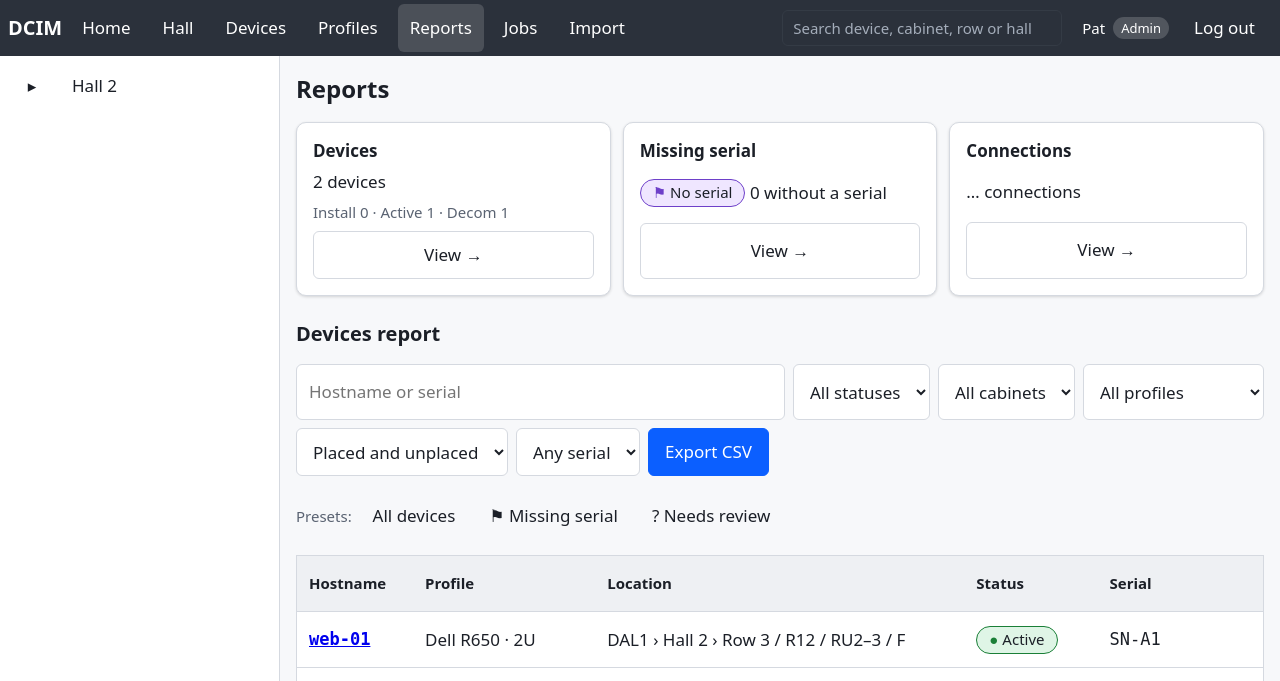
Test: Reports › shows cards, Connections card, and the missing-serial preset
The width and height of the screenshot is (1280, 681).
Expected: the link "web-01" is shown, [309,629,370,649]
Expected: the dropdown named "Profile" is shown, [1083,364,1264,420]
What coordinates should you click on to do the following:
click the button "⚑ Missing serial"
I would click on:
 (554, 516)
Its box is [472,492,635,540].
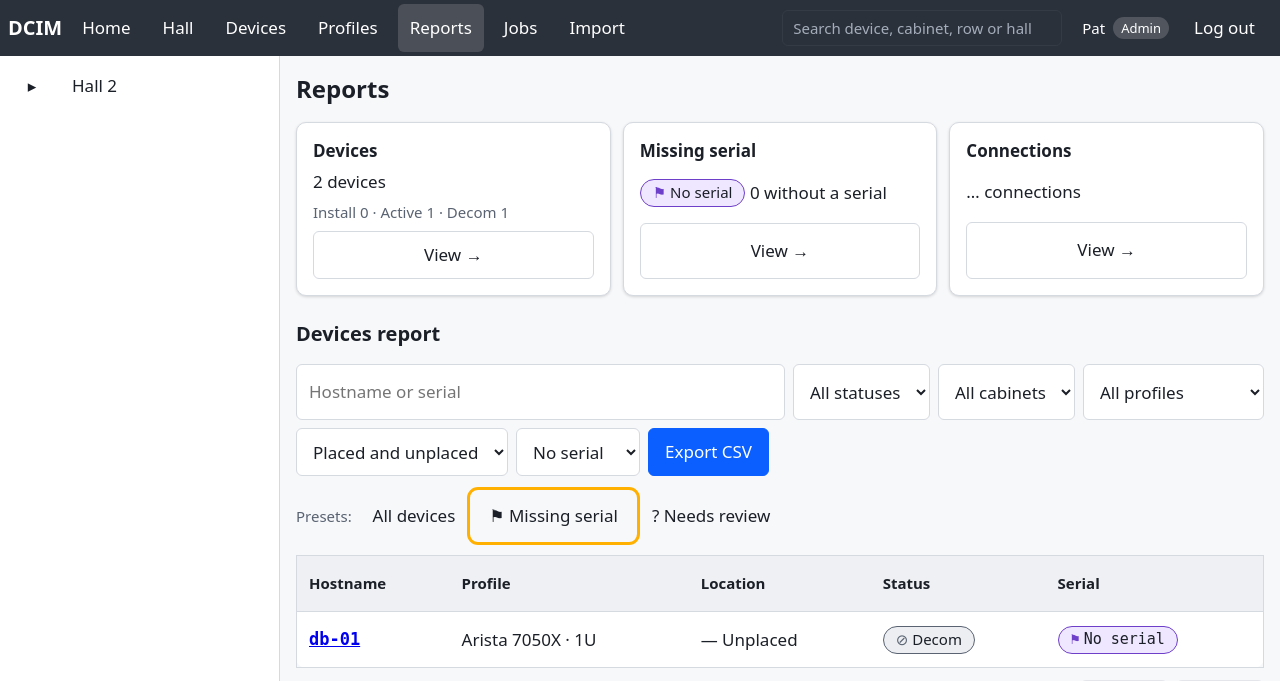
Expected: the link "db-01" is shown, [309,629,360,649]
Now the link "web-01" is gone
